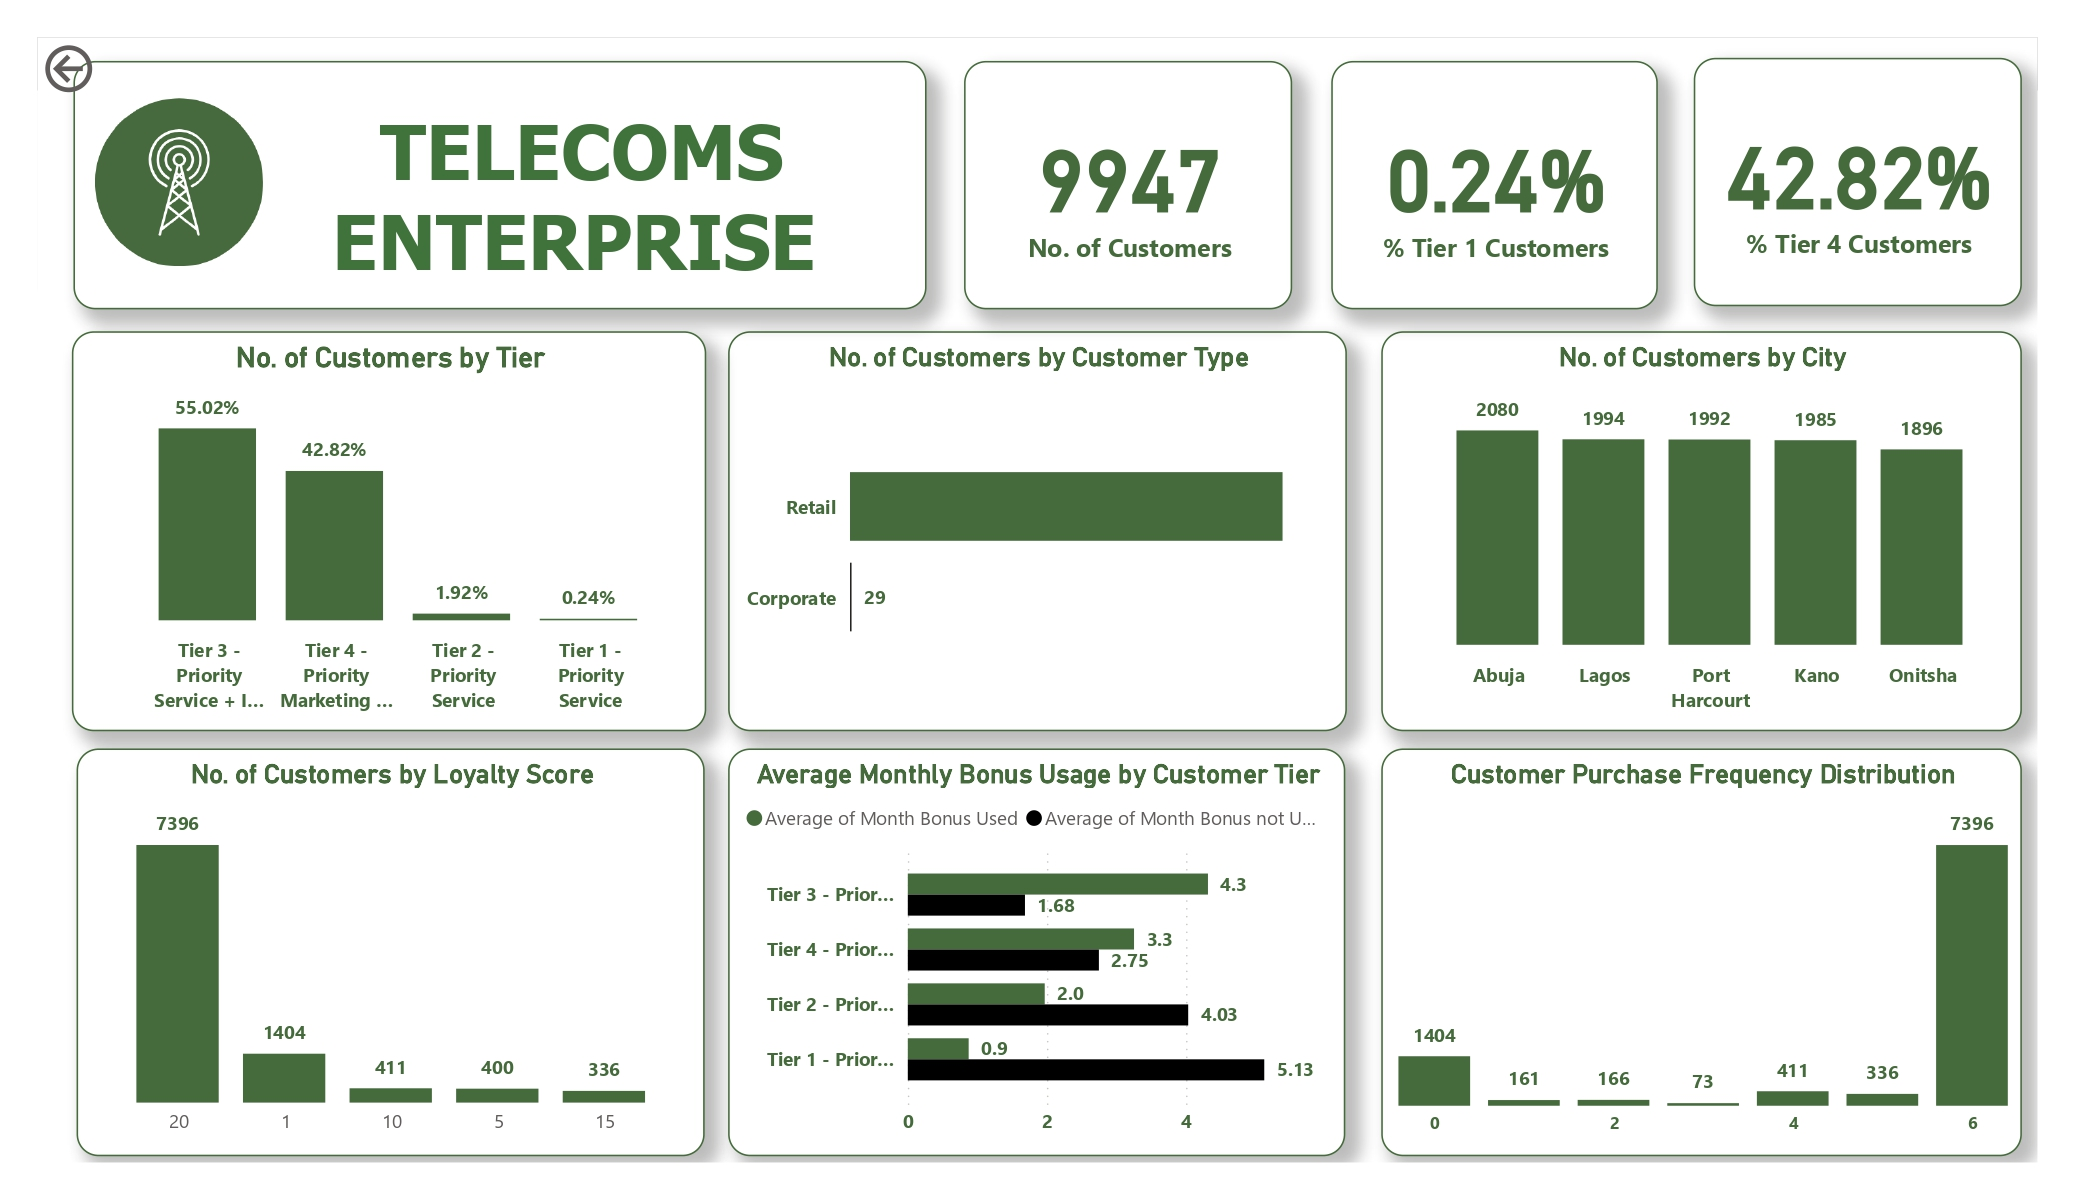

The dashboard page shown, as its layout file describes it:
{"tool":"powerbi","page":{"name":"Page 1","canvas":[1280,720],"ordinal":0},"visuals":[{"type":"barChart","title":"No. of Customers by Customer Type","fields":{"Category":["Telecoms Data.CUSTOMER_TYPE"],"Y":["CountNonNull(Telecoms Data.CUSTOMER_TYPE)"]},"box":[442,188,396,256],"z":0},{"type":"columnChart","title":"No. of Customers by City","fields":{"Category":["Telecoms Data.Primary City"],"Y":["Count(Telecoms Data.Account Number)"]},"box":[860,188,410,256],"z":1000},{"type":"card","fields":{"Values":["CountNonNull(Telecoms Data.Account Number)"]},"box":[593.4,15.1,210,158.7],"z":2000},{"type":"textbox","box":[22.7,15.1,546.1,158.7],"z":3000},{"type":"actionButton","box":[0,0,100,40],"z":4000},{"type":"image","box":[32.1,28.3,117.2,128.5],"z":5000},{"type":"card","fields":{"Values":["Telecoms Data.% Tier 1 Customers"]},"box":[827.7,15.1,209.8,158.7],"z":6000},{"type":"card","fields":{"Values":["Telecoms Data.% Tier 4 Customers"]},"box":[1060.2,13.2,209.8,158.7],"z":7000},{"type":"columnChart","title":"No. of Customers by Tier","fields":{"Category":["Telecoms Data.Customer Tier1"],"Y":["Sum(Telecoms Data.Account Number)"]},"box":[22,188,406,256],"z":8000},{"type":"columnChart","fields":{"Y":["Count(Telecoms Data.Account Number)"],"Category":["Telecoms Data.Loyalty Score1"]},"box":[24.6,455.4,402.5,260.8],"z":9000},{"type":"columnChart","title":"Customer Purchase Frequency Distribution","fields":{"Y":["Count(Telecoms Data.Account Number)"],"Category":["Telecoms Data.Month Purchased"]},"box":[859.8,455.4,410.1,260.8],"z":10000},{"type":"clusteredBarChart","title":"Average Monthly Bonus Usage by Customer Tier","fields":{"Y":["Avg(Telecoms Data.Month Bonus Used)","Avg(Telecoms Data.Month Bonus not Used)"],"Category":["Telecoms Data.Customer Tier1"]},"box":[442.2,455.4,395,260.8],"z":11000}]}

Visuals, with their boxes on the page's 1280x720 design canvas (x1, y1, x2, y2). These are canvas units, not pixel positions in the 2075x1200 screenshot, which may show the page scaled, cropped or inside an application window:
"No. of Customers by Customer Type" barChart: [left=442, top=188, right=838, bottom=444]
"No. of Customers by City" columnChart: [left=860, top=188, right=1270, bottom=444]
card - CountNonNull(Telecoms Data.Account Number): [left=593, top=15, right=803, bottom=174]
textbox: [left=23, top=15, right=569, bottom=174]
actionButton: [left=0, top=0, right=100, bottom=40]
image: [left=32, top=28, right=149, bottom=157]
card - Telecoms Data.% Tier 1 Customers: [left=828, top=15, right=1038, bottom=174]
card - Telecoms Data.% Tier 4 Customers: [left=1060, top=13, right=1270, bottom=172]
"No. of Customers by Tier" columnChart: [left=22, top=188, right=428, bottom=444]
columnChart - Count(Telecoms Data.Account Number) x Telecoms Data.Loyalty Score1: [left=25, top=455, right=427, bottom=716]
"Customer Purchase Frequency Distribution" columnChart: [left=860, top=455, right=1270, bottom=716]
"Average Monthly Bonus Usage by Customer Tier" clusteredBarChart: [left=442, top=455, right=837, bottom=716]
